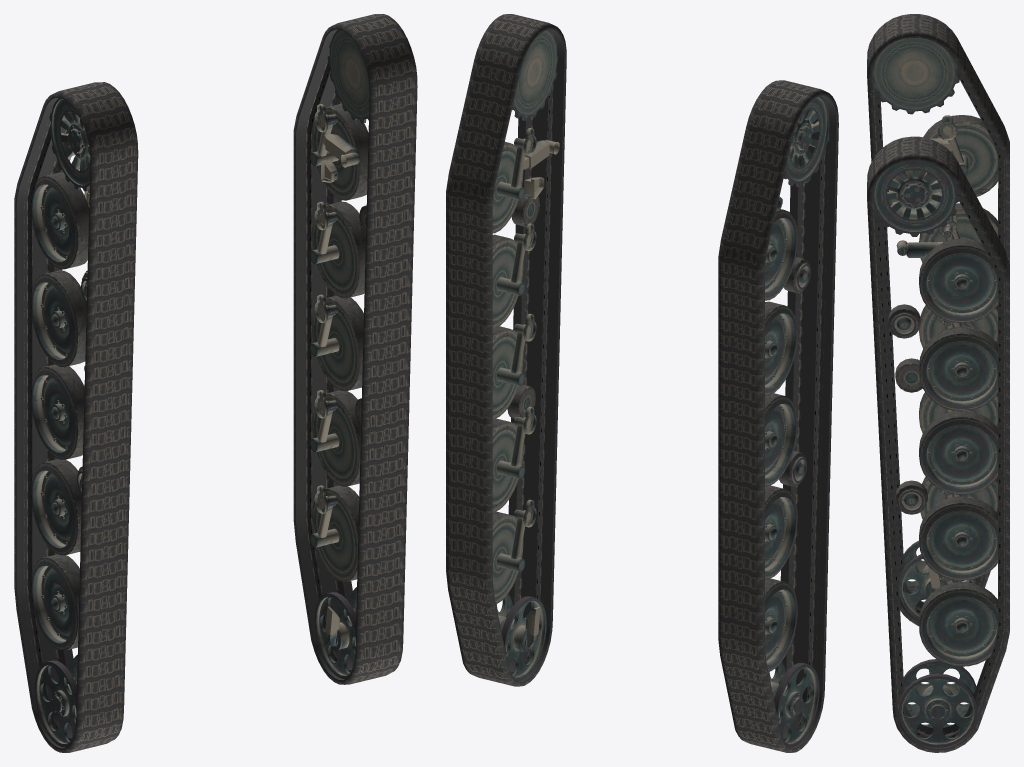
Rendered from Chassis.glb.
3 views of the same model, side by side, from view 1: azimuth 30°, elevation 25°; view 2: azimuth 150°, elevation 25°; view 3: azimuth 270°, elevation 25° (orthographic). The views are drawn at different scales.
Visible parts, largest first — view 1: set_0_group_0, set_1_group_0, set_2_group_0, set_3_group_0; view 2: set_1_group_0, set_0_group_0, set_3_group_0, set_2_group_0; view 3: set_3_group_0, set_0_group_0, set_2_group_0, set_1_group_0.
Part boxes in pixels (left/top/right/bottom): set_0_group_0: left=293, top=14, right=417, bottom=684; set_1_group_0: left=14, top=82, right=138, bottom=752; set_2_group_0: left=32, top=97, right=90, bottom=747; set_3_group_0: left=310, top=29, right=369, bottom=678; set_1_group_0: left=718, top=80, right=838, bottom=752; set_0_group_0: left=446, top=14, right=566, bottom=686; set_3_group_0: left=492, top=29, right=559, bottom=680; set_2_group_0: left=765, top=96, right=829, bottom=747; set_3_group_0: left=872, top=160, right=998, bottom=747; set_0_group_0: left=867, top=136, right=1009, bottom=752; set_2_group_0: left=872, top=37, right=998, bottom=619; set_1_group_0: left=867, top=14, right=1009, bottom=626.
Bounding box in the file's own units: 2.5 × 4.88 × 1.06.
4 materials, 4 textured.
